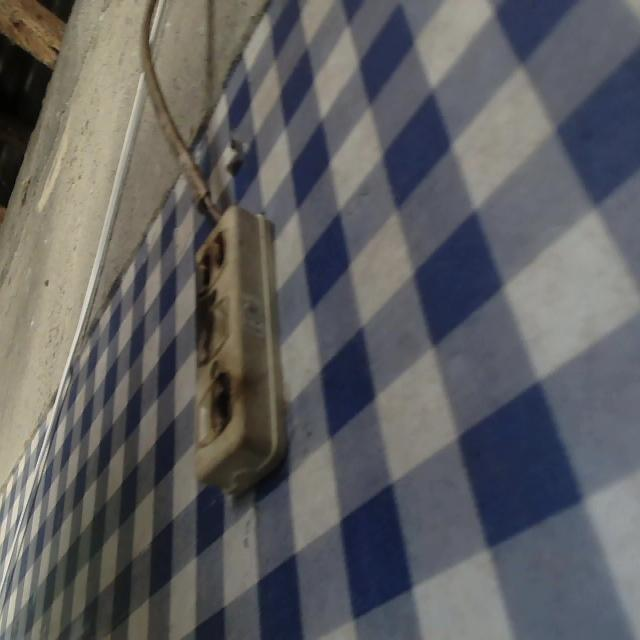-: (195, 234, 227, 290), (208, 374, 235, 434), (195, 308, 215, 363)
